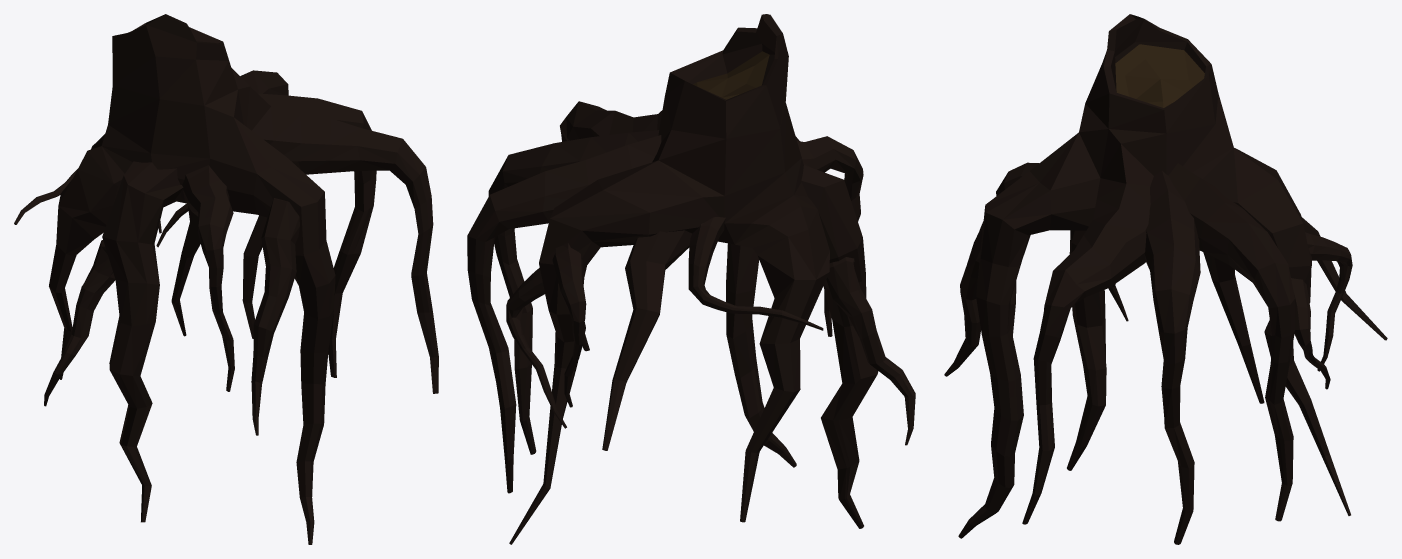
The picture shows the model from 3 angles, left to right: view 1: azimuth 30°, elevation 25°; view 2: azimuth 150°, elevation 25°; view 3: azimuth 270°, elevation 25°; orthographic projection. The views are drawn at different scales.
Visible parts, largest first — view 1: Object002; view 2: Object002; view 3: Object002.
Part boxes in pixels (<box>): Object002: <box>14,14,438,544</box>; Object002: <box>467,14,915,544</box>; Object002: <box>944,14,1387,544</box>.
Bounding box in the file's own units: 371 × 480 × 391.
